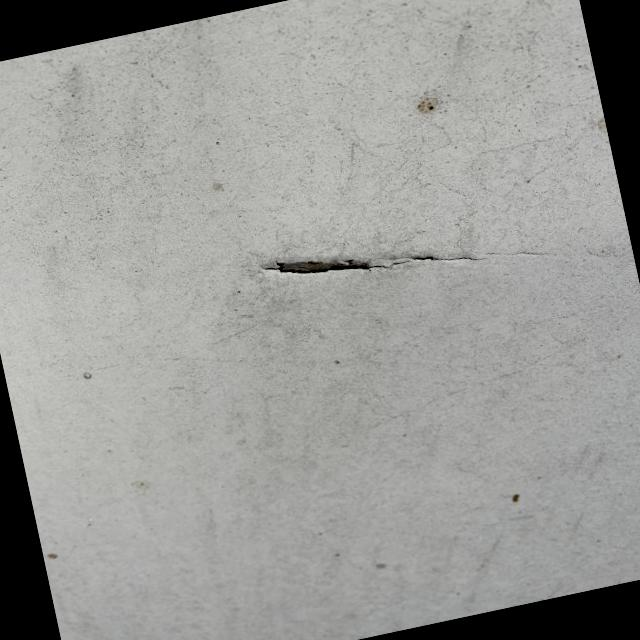crack: (231, 198, 525, 324)
